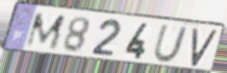2: (90, 18, 123, 60)
4: (123, 22, 149, 61)
8: (61, 17, 92, 54)
M: (23, 12, 68, 51)
U: (151, 24, 190, 65)
V: (190, 28, 220, 68)
